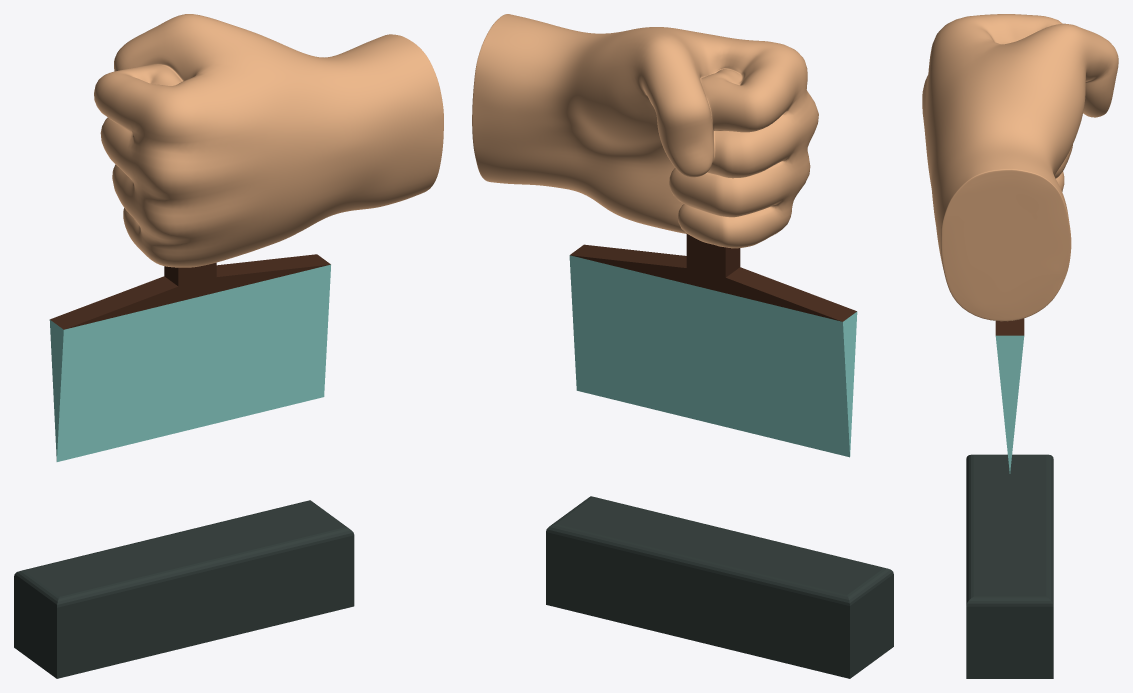
File: saveMachine.fbx
3 views of the same model, side by side, from view 1: azimuth 30°, elevation 25°; view 2: azimuth 150°, elevation 25°; view 3: azimuth 270°, elevation 25° (orthographic). The views are drawn at different scales.
Parts seen in each view (by area): view 1: Hand, Tool, Table; view 2: Hand, Tool, Table; view 3: Hand, Table, Tool.
Part boxes in pixels (bbox=[...]): Hand: bbox=[94, 14, 443, 267]; Tool: bbox=[49, 254, 330, 461]; Table: bbox=[14, 500, 354, 678]; Hand: bbox=[472, 14, 818, 248]; Tool: bbox=[569, 233, 857, 457]; Table: bbox=[546, 496, 893, 678]; Hand: bbox=[922, 14, 1118, 321]; Table: bbox=[966, 454, 1053, 678]; Tool: bbox=[995, 318, 1024, 473].
Size of the model in its own units: 1009 by 1502 by 450.
